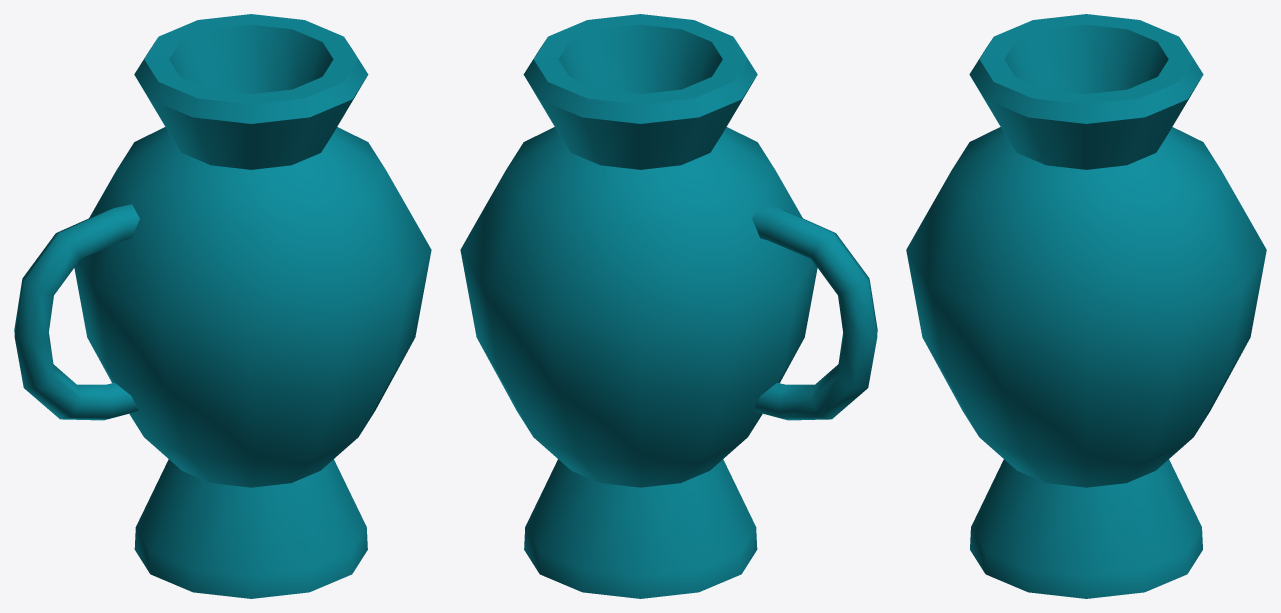
File: Pot_Water_B.fbx
3 renders of one model, left to right at view 1: azimuth 30°, elevation 25°; view 2: azimuth 150°, elevation 25°; view 3: azimuth 270°, elevation 25°, orthographic.
Visible parts, largest first — view 1: Pot_Water_B; view 2: Pot_Water_B; view 3: Pot_Water_B.
Part boxes in pixels (x1,y1,x2,y2): Pot_Water_B: (14,14,431,598); Pot_Water_B: (460,14,877,598); Pot_Water_B: (906,14,1266,598).
Bounding box in the file's own units: 59.02 × 70.42 × 46.92.
